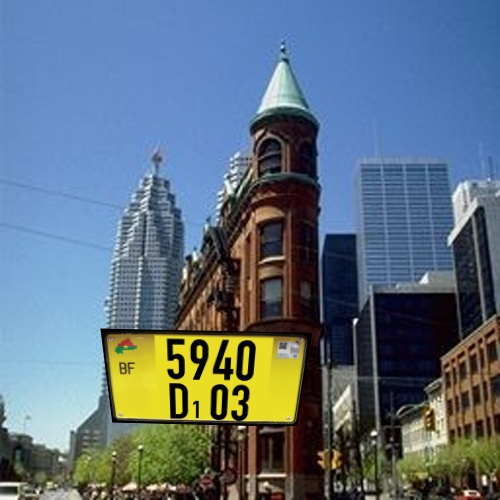plate: (94, 315, 326, 439)
